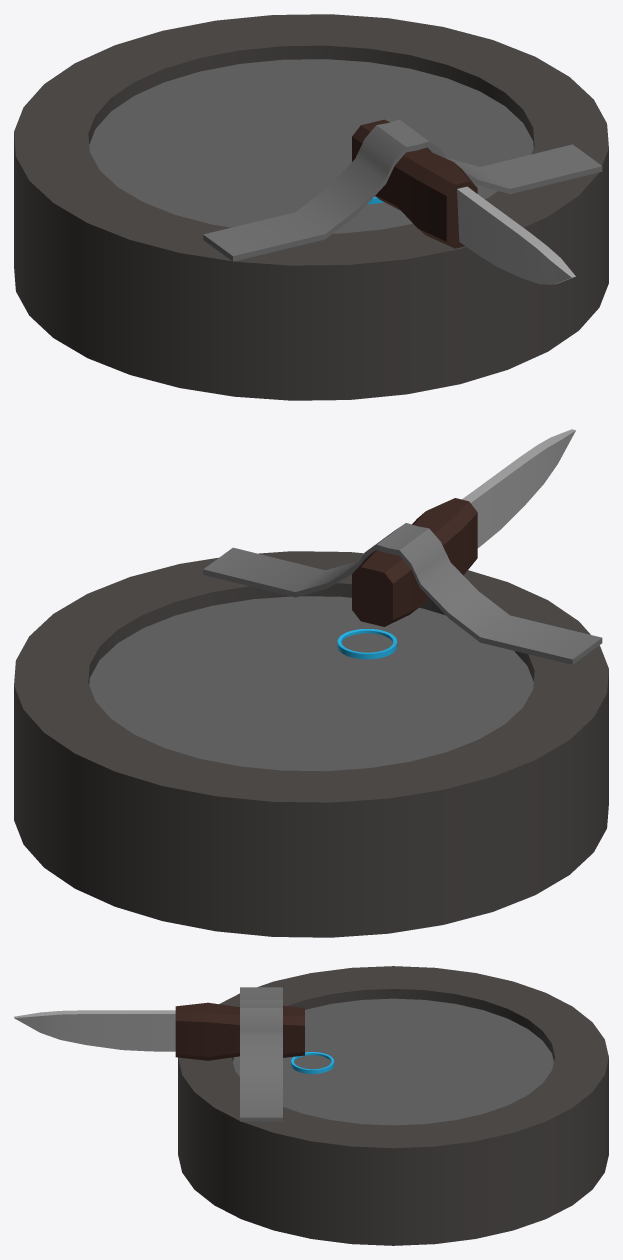
The model's file is roomba_knife.fbx.
3 views of the same model, one above another, from view 1: azimuth 30°, elevation 25°; view 2: azimuth 150°, elevation 25°; view 3: azimuth 270°, elevation 25° (orthographic). The views are drawn at different scales.
Visible parts, largest first — view 1: knife_roomba; view 2: knife_roomba; view 3: knife_roomba.
Boxes of the visible parts, bbox=[...] form: knife_roomba: bbox=[14, 14, 608, 400]; knife_roomba: bbox=[14, 429, 608, 937]; knife_roomba: bbox=[14, 966, 608, 1245].
Bounding box in the file's own units: 2 × 0.7722 × 2.76.
